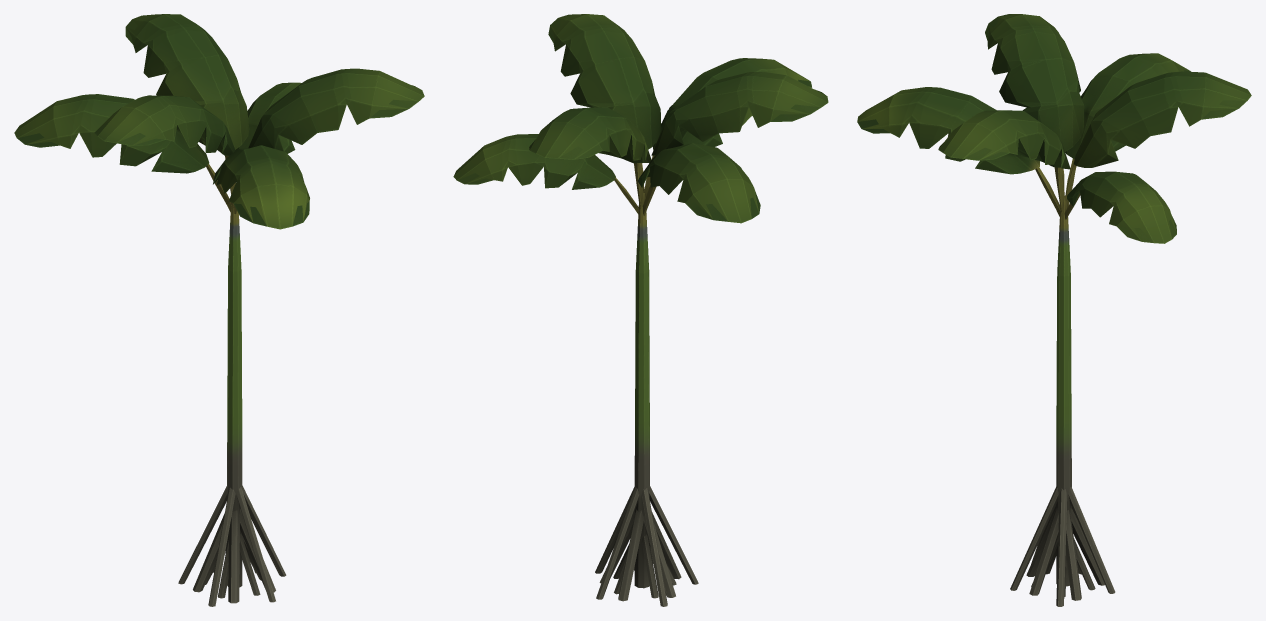
Rendered from VerschaffeltiaPalmTree.obj.
3 renders of one model, left to right at view 1: azimuth 30°, elevation 25°; view 2: azimuth 150°, elevation 25°; view 3: azimuth 270°, elevation 25°, orthographic.
Size of the model in its own units: 11.26 by 18.44 by 12.87.
Materials: 1 (1 with a texture image).
